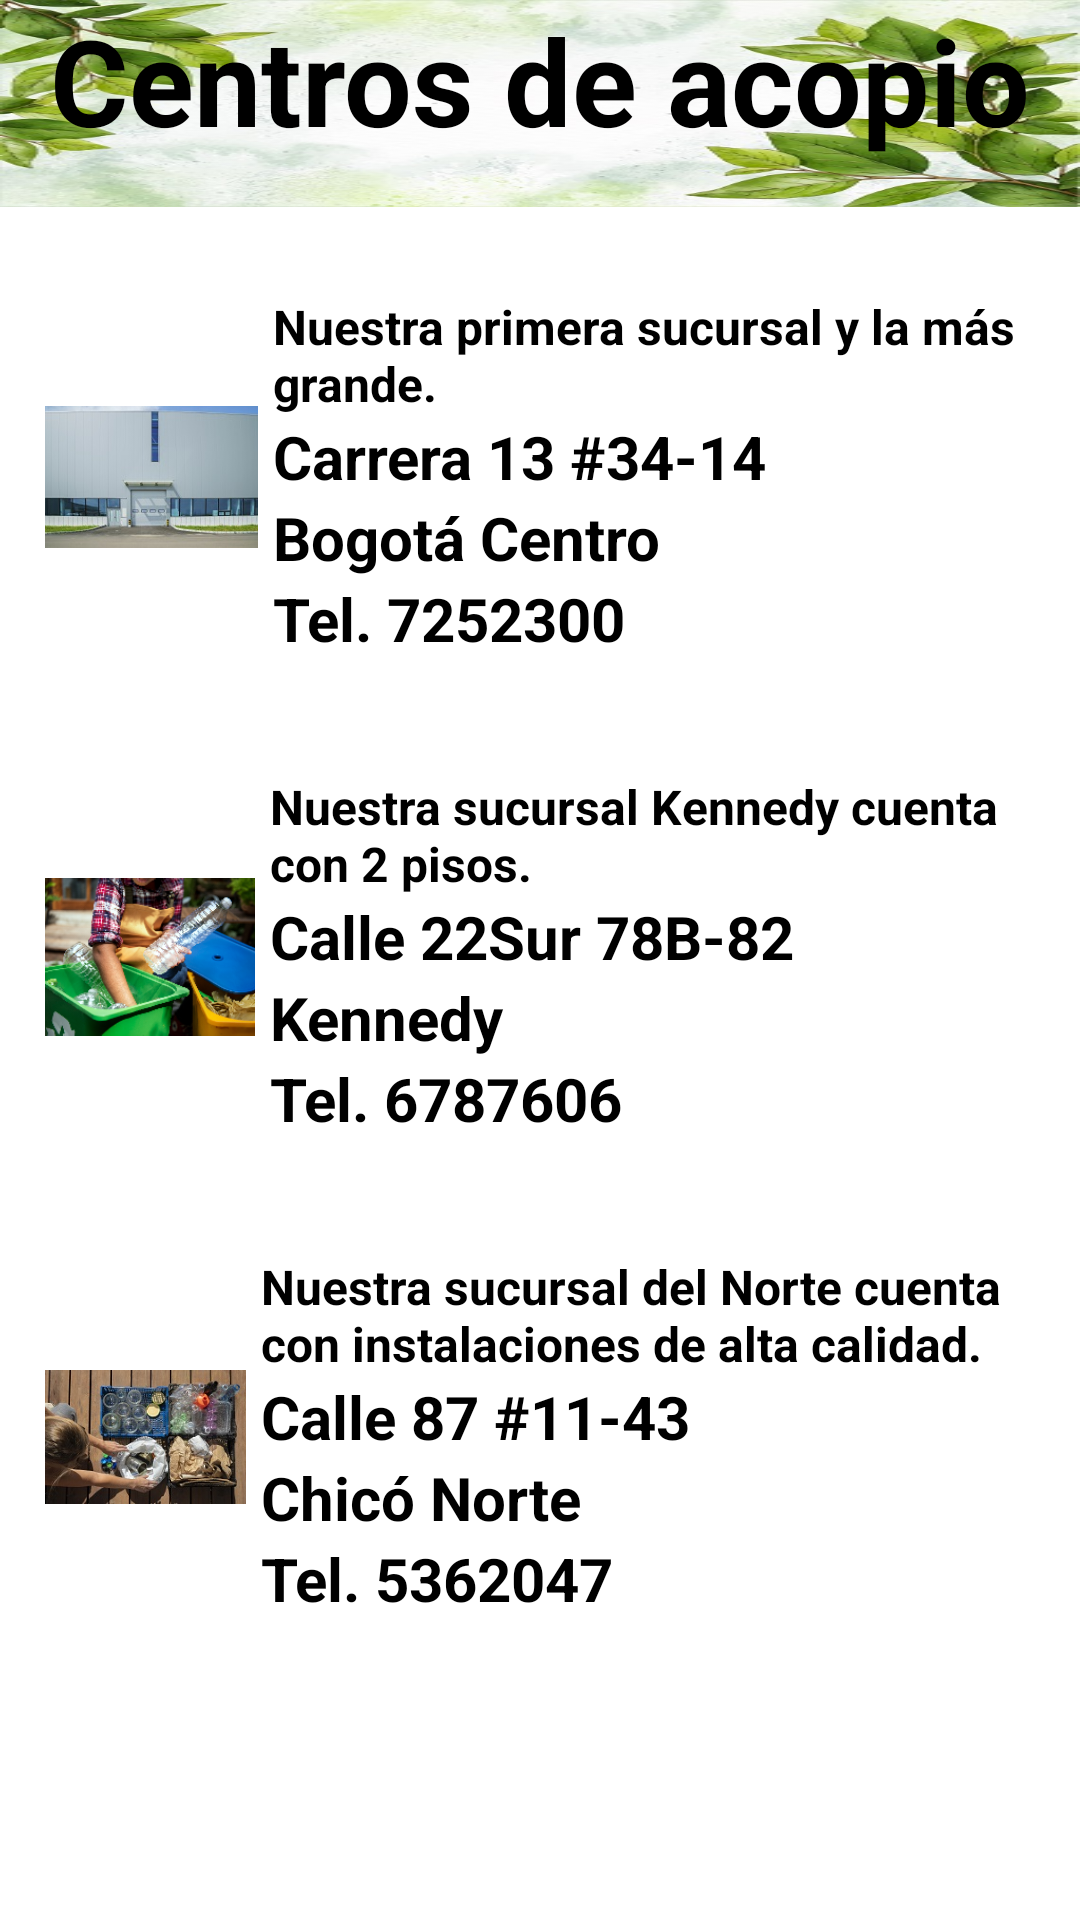

Icons on this 1080px×1920px Android screen, each with its box as Rect(x1, y1, x2, y2):
centro de acopio: Rect(45, 406, 258, 548), Rect(45, 878, 255, 1036), Rect(45, 1370, 246, 1504)
